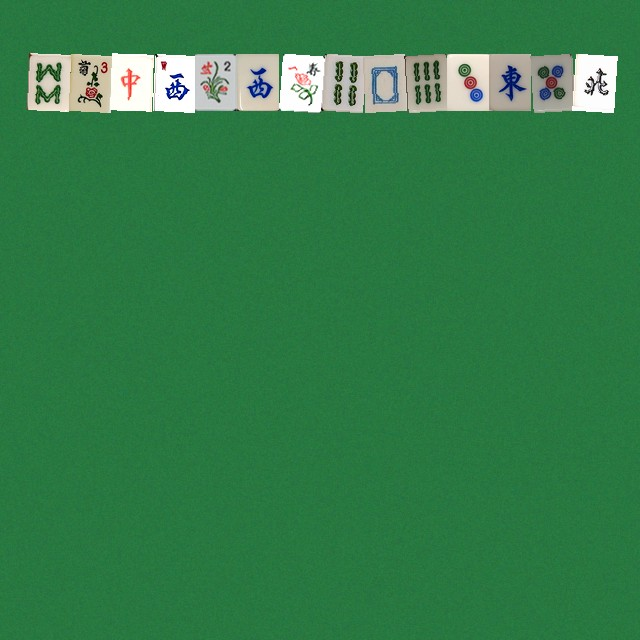tile: (26, 53, 68, 110), (68, 53, 110, 110), (110, 53, 152, 110), (152, 53, 194, 110), (194, 53, 236, 110), (236, 53, 278, 110), (278, 53, 320, 110), (320, 53, 362, 110), (362, 53, 404, 110), (404, 53, 446, 110), (446, 53, 488, 110), (488, 53, 530, 110), (530, 53, 572, 110), (572, 53, 614, 110)
